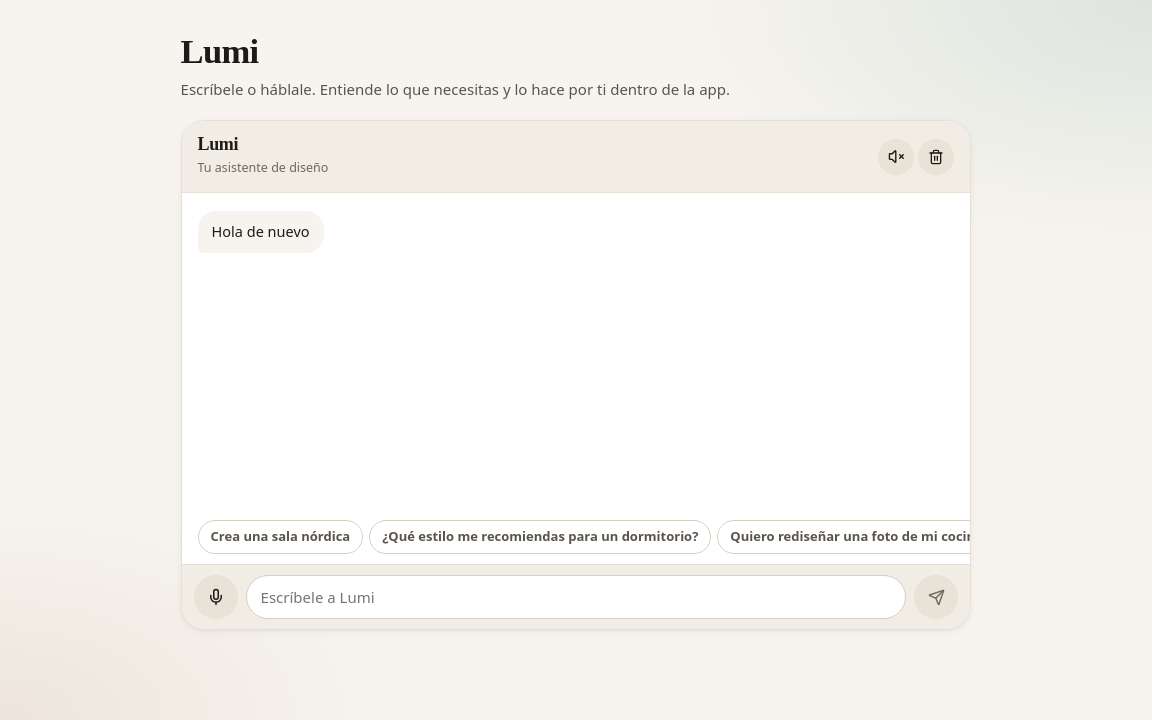
Test case: Lumi assistant page › clears the conversation
Click the button named "Borrar conversación" at coordinates (936, 156), box 918,138 -> 954,174
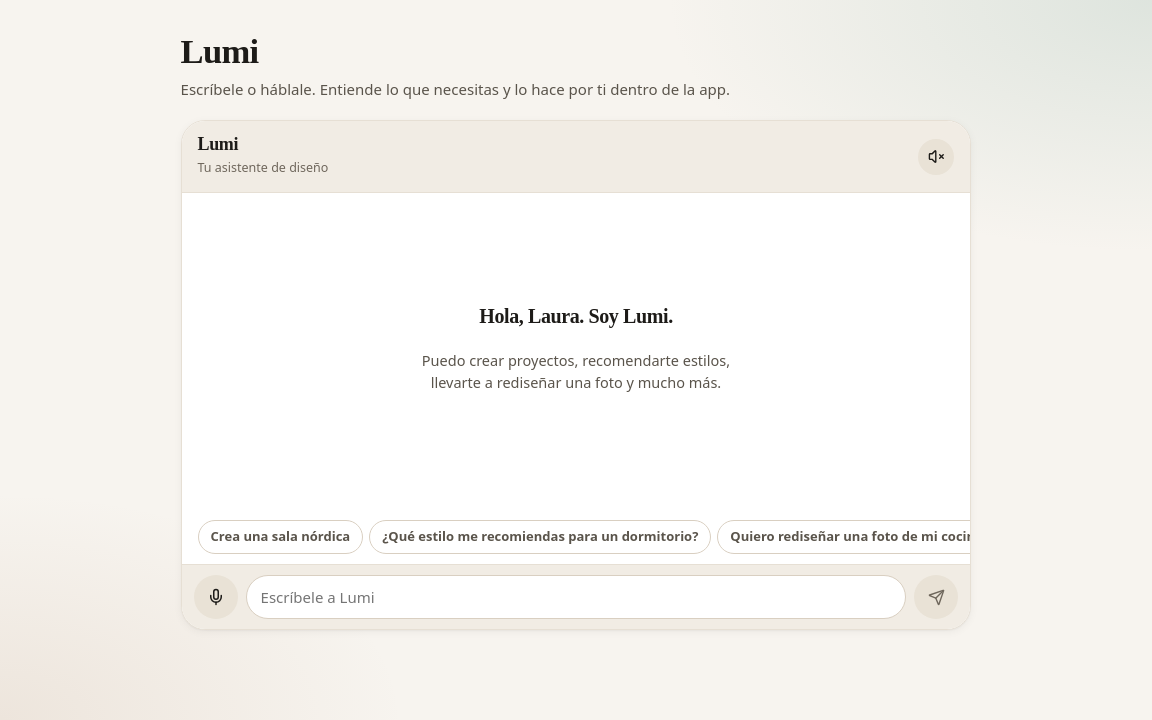
Expected: the heading "Hola, Laura. Soy Lumi." is shown, 479,305 -> 673,328
